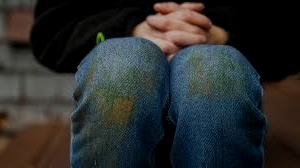earth: (189, 61, 234, 96), (95, 70, 154, 96), (106, 97, 135, 125)
